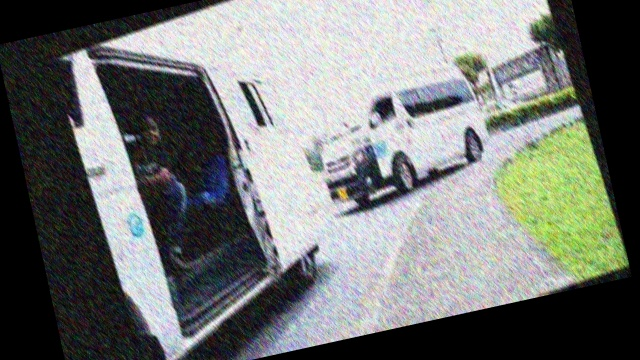van: (299, 52, 507, 221)
